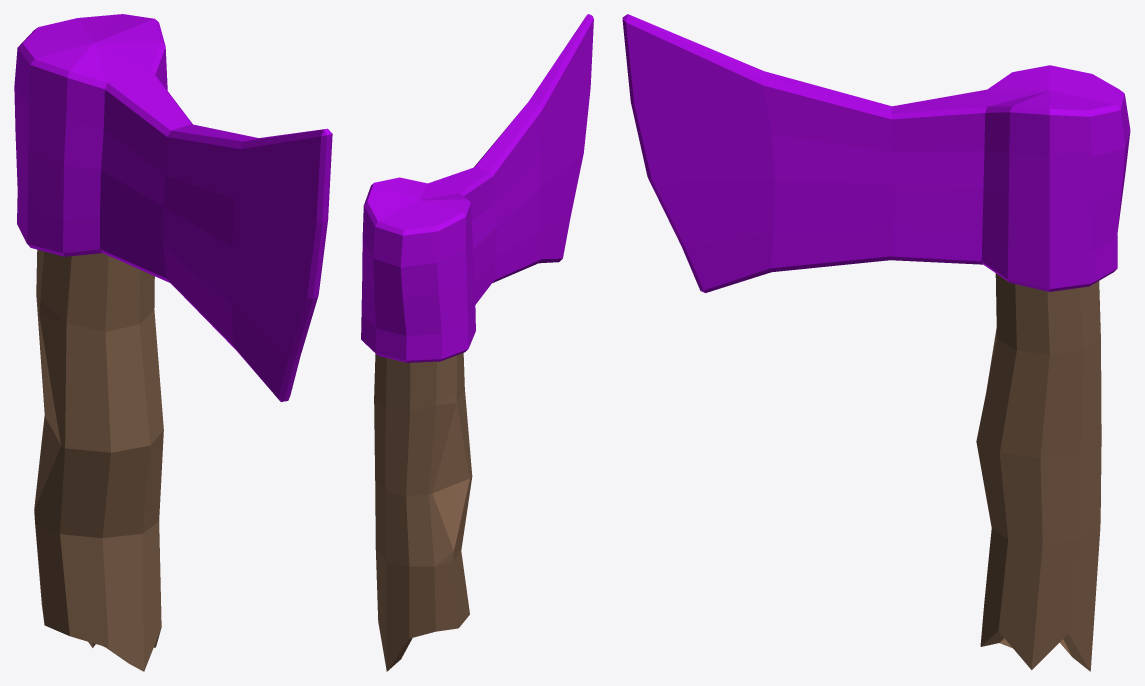
File: Axe_01_Destroyed_Purple.fbx
3 views of the same model, side by side, from view 1: azimuth 30°, elevation 25°; view 2: azimuth 150°, elevation 25°; view 3: azimuth 270°, elevation 25° (orthographic). The views are drawn at different scales.
Parts seen in each view (by area): view 1: Axe01_Destroyed_Purple; view 2: Axe01_Destroyed_Purple; view 3: Axe01_Destroyed_Purple.
Boxes of the visible parts, left/top/right/bottom form: Axe01_Destroyed_Purple: left=14, top=14, right=332, bottom=671; Axe01_Destroyed_Purple: left=361, top=14, right=593, bottom=671; Axe01_Destroyed_Purple: left=622, top=14, right=1130, bottom=671.
Bounding box in the file's own units: 13.94 × 69.73 × 49.54.
